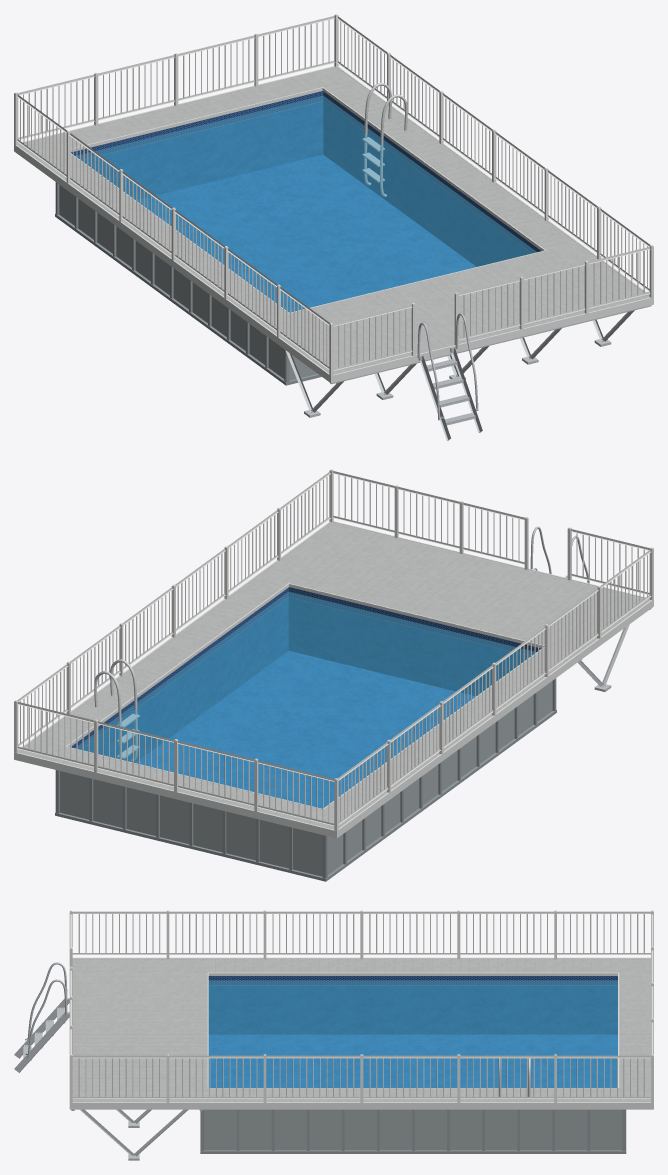
The model's file is kayak-pool-16x24-gray.glb.
3 views of the same model, one above another, from view 1: azimuth 30°, elevation 25°; view 2: azimuth 150°, elevation 25°; view 3: azimuth 270°, elevation 25° (orthographic). The views are drawn at different scales.
Parts seen in each view (by area): view 1: water, deck, fence, liner_floor, liner_wall, fascia, wall, upright, stud, ladder, steel; view 2: water, deck, fence, liner_floor, liner_wall, wall, fascia, upright, steel; view 3: water, deck, liner_wall, liner_floor, fence, wall, fascia, upright, ladder, stud.
Part boxes in pixels (x1=…): water: x1=77, y1=95, x2=536, y2=312; deck: x1=17, y1=67, x2=649, y2=374; fence: x1=14, y1=14, x2=653, y2=375; liner_floor: x1=137, y1=155, x2=475, y2=312; liner_wall: x1=71, y1=91, x2=541, y2=266; fascia: x1=14, y1=66, x2=653, y2=383; wall: x1=59, y1=185, x2=317, y2=380; upright: x1=55, y1=182, x2=321, y2=385; stud: x1=260, y1=305, x2=651, y2=417; ladder: x1=417, y1=313, x2=482, y2=440; steel: x1=362, y1=82, x2=407, y2=196; water: x1=75, y1=592, x2=536, y2=808; deck: x1=18, y1=522, x2=650, y2=829; fence: x1=14, y1=469, x2=653, y2=830; liner_floor: x1=136, y1=651, x2=474, y2=808; liner_wall: x1=71, y1=587, x2=541, y2=762; wall: x1=60, y1=681, x2=552, y2=876; fascia: x1=14, y1=521, x2=653, y2=838; upright: x1=55, y1=678, x2=556, y2=881; steel: x1=94, y1=659, x2=139, y2=761; water: x1=208, y1=980, x2=617, y2=1087; deck: x1=72, y1=958, x2=650, y2=1102; liner_wall: x1=208, y1=976, x2=617, y2=1034; liner_floor: x1=208, y1=1034, x2=617, y2=1087; fence: x1=69, y1=910, x2=653, y2=1102; wall: x1=204, y1=1109, x2=622, y2=1150; fascia: x1=69, y1=957, x2=653, y2=1109; upright: x1=200, y1=1109, x2=626, y2=1153; ladder: x1=14, y1=962, x2=69, y2=1072; stud: x1=71, y1=1109, x2=202, y2=1160.
Bounding box in the file's own units: 6.1 × 2.15 × 11.35.
Materials: 11 (3 with a texture image).
